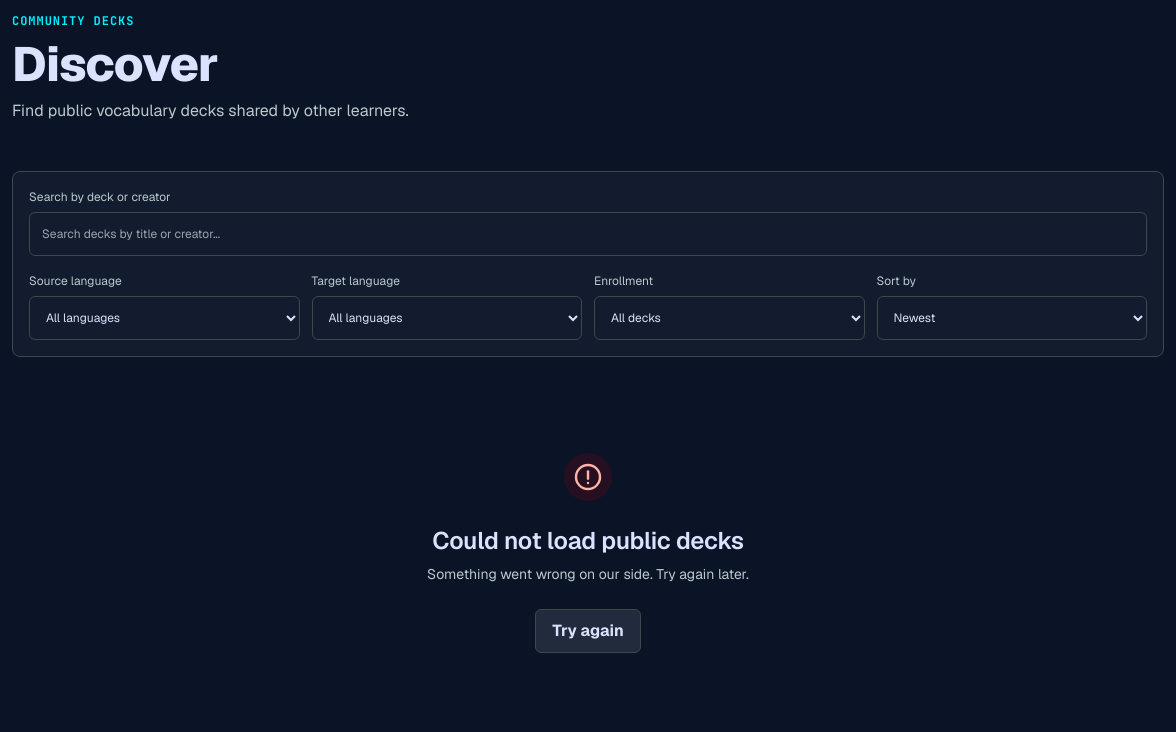
Test: DiscoverPage › shows a page error and retries the request
Expected: the heading "Could not load public decks" is shown, [427,525,749,556]
Click the button "Try again".
click(588, 631)  # box [535,609,641,653]
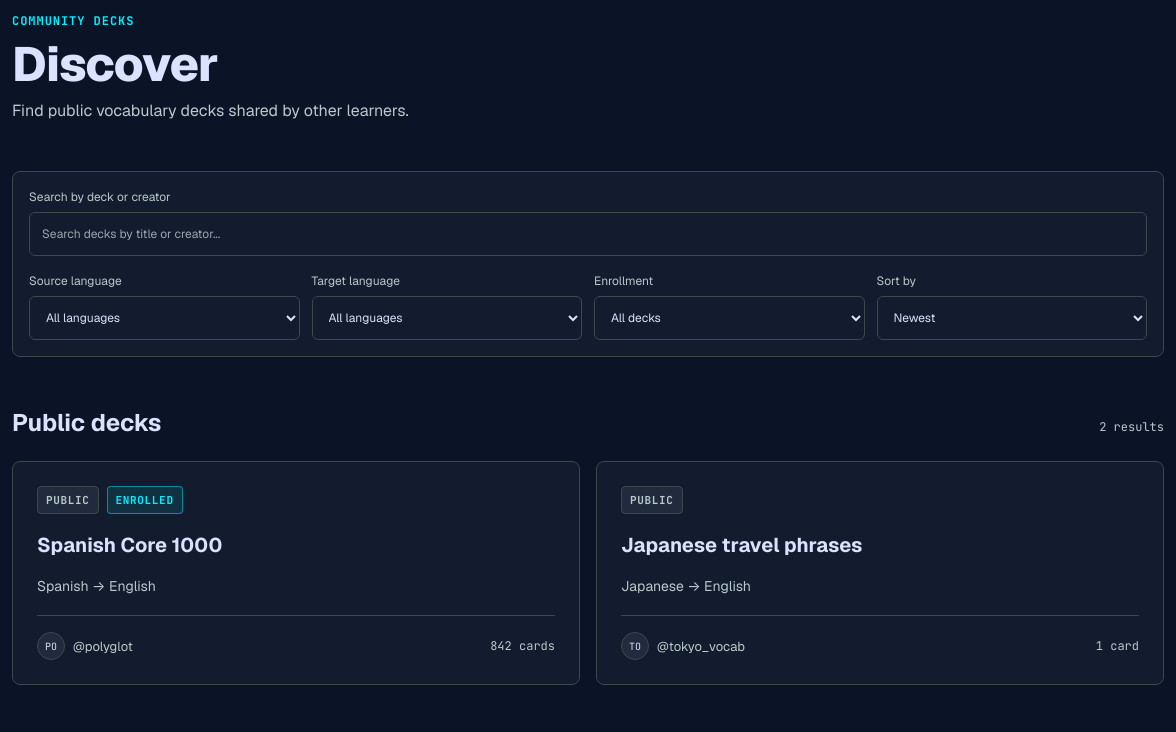
Expected: the heading "Spanish Core 1000" is shown, [37,532,222,558]
